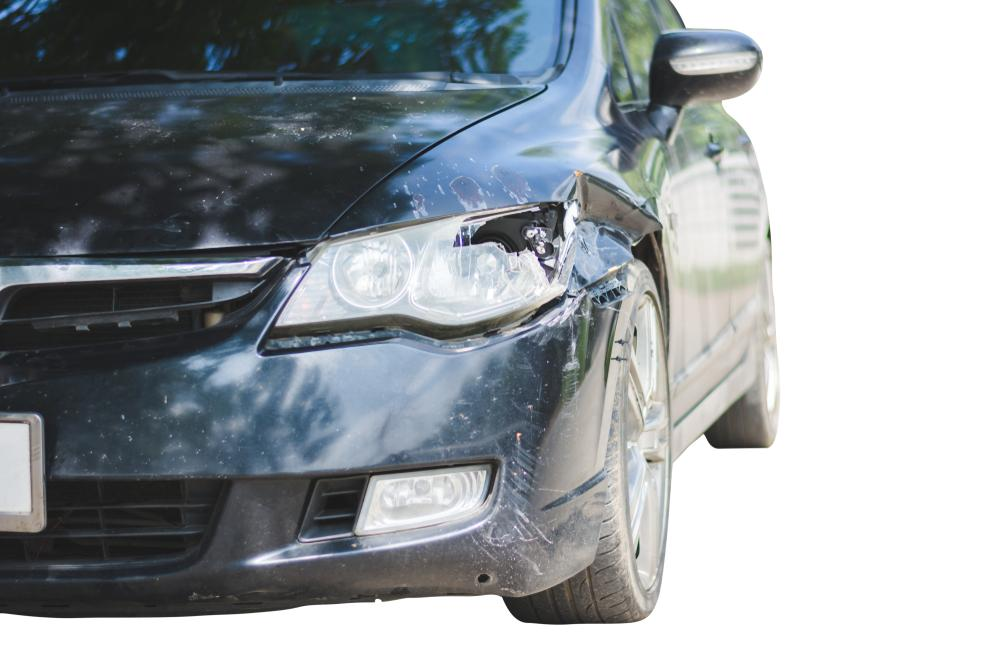dent: (567, 173, 661, 288)
lamp broken: (273, 198, 572, 343)
scratch: (560, 329, 581, 419)
